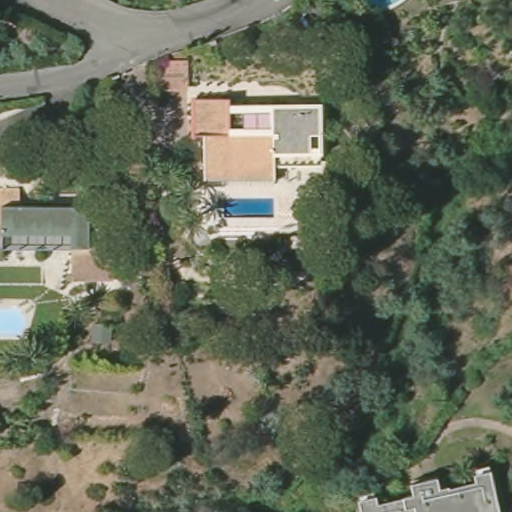pool: (216, 195, 281, 225), (1, 295, 34, 345)
